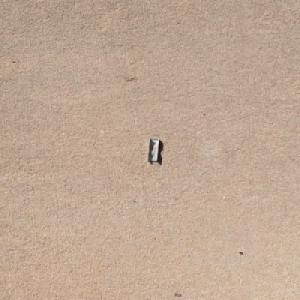ClampPart: (146, 137, 161, 162)
